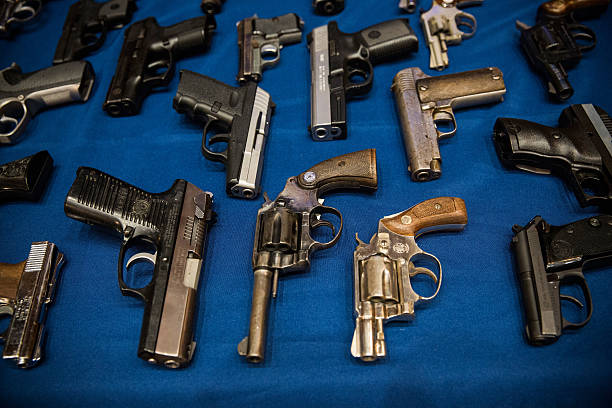pistol: (64, 161, 217, 374), (238, 144, 381, 363), (349, 195, 469, 365), (305, 17, 420, 146), (174, 63, 278, 204), (391, 65, 511, 184), (510, 215, 612, 347), (493, 103, 612, 214), (105, 14, 220, 126), (509, 1, 611, 100), (1, 234, 66, 380), (1, 58, 97, 139), (233, 4, 305, 88), (51, 1, 134, 62), (417, 1, 484, 73)
